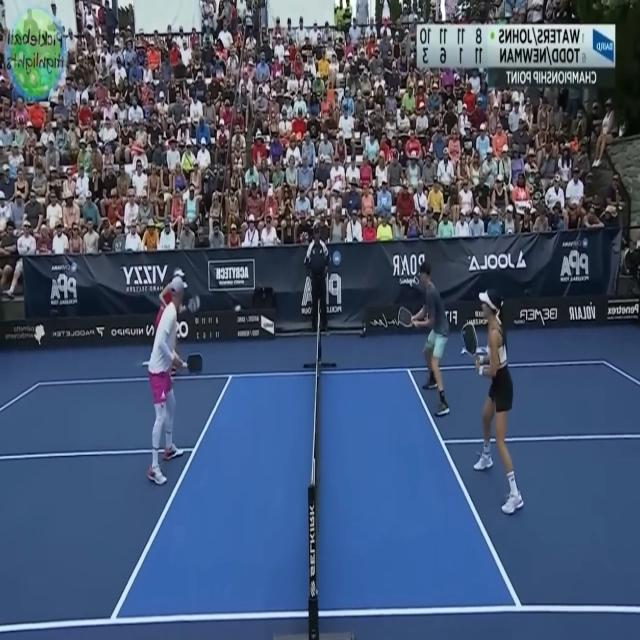Pickleball: (232, 302, 244, 312)
